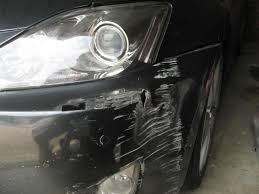Scratch: (94, 64, 188, 190)
